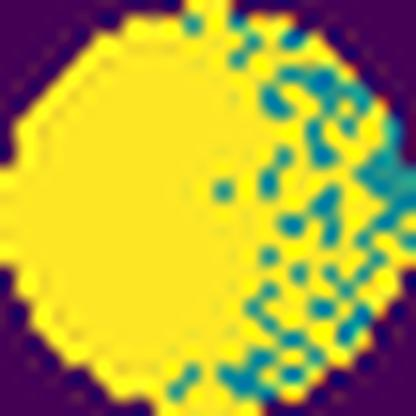Near-full: (0, 0, 385, 416)
